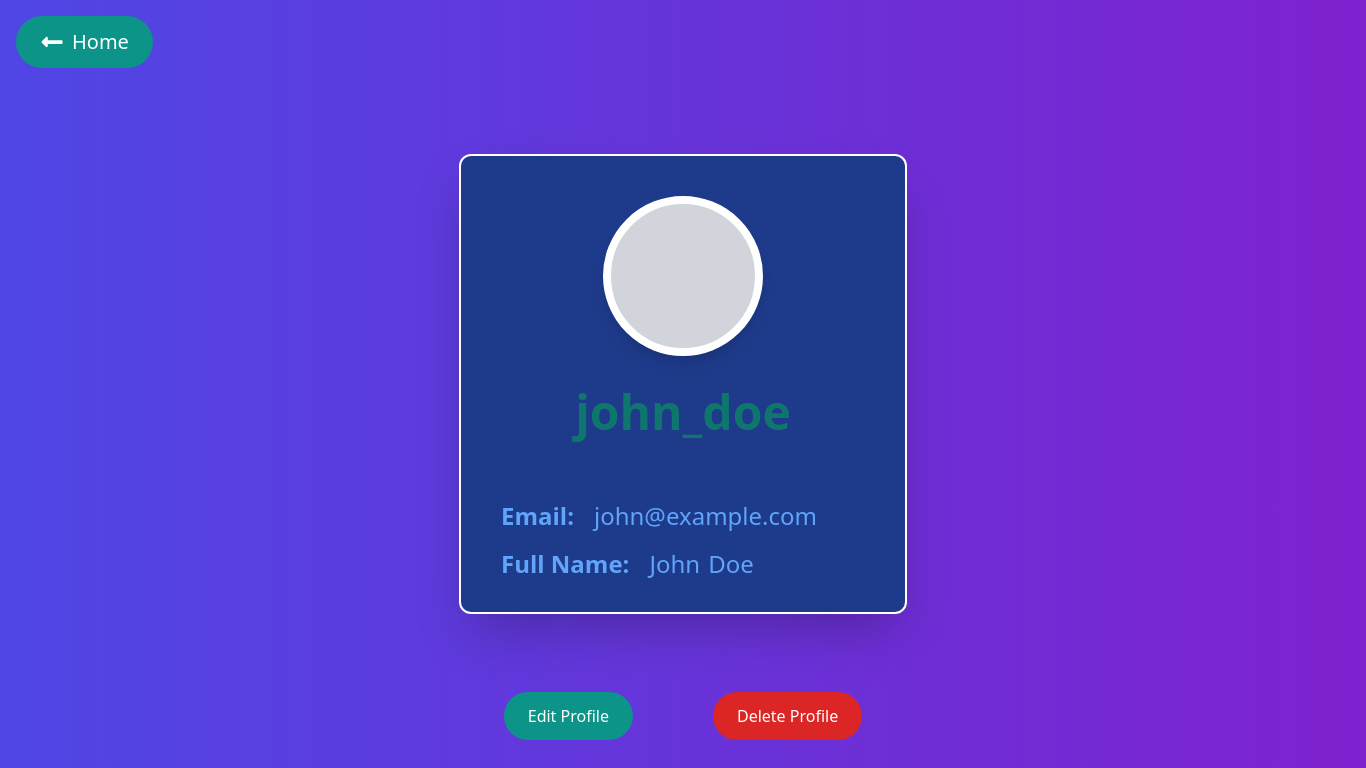
Test: Unit Tests: Profile.jsx › opens EditProfilePopup on Edit click
This screenshot has width=1366, height=768.
Click the button "Edit Profile" at point(568, 716), box [504,692,633,740]
(page scrolled)
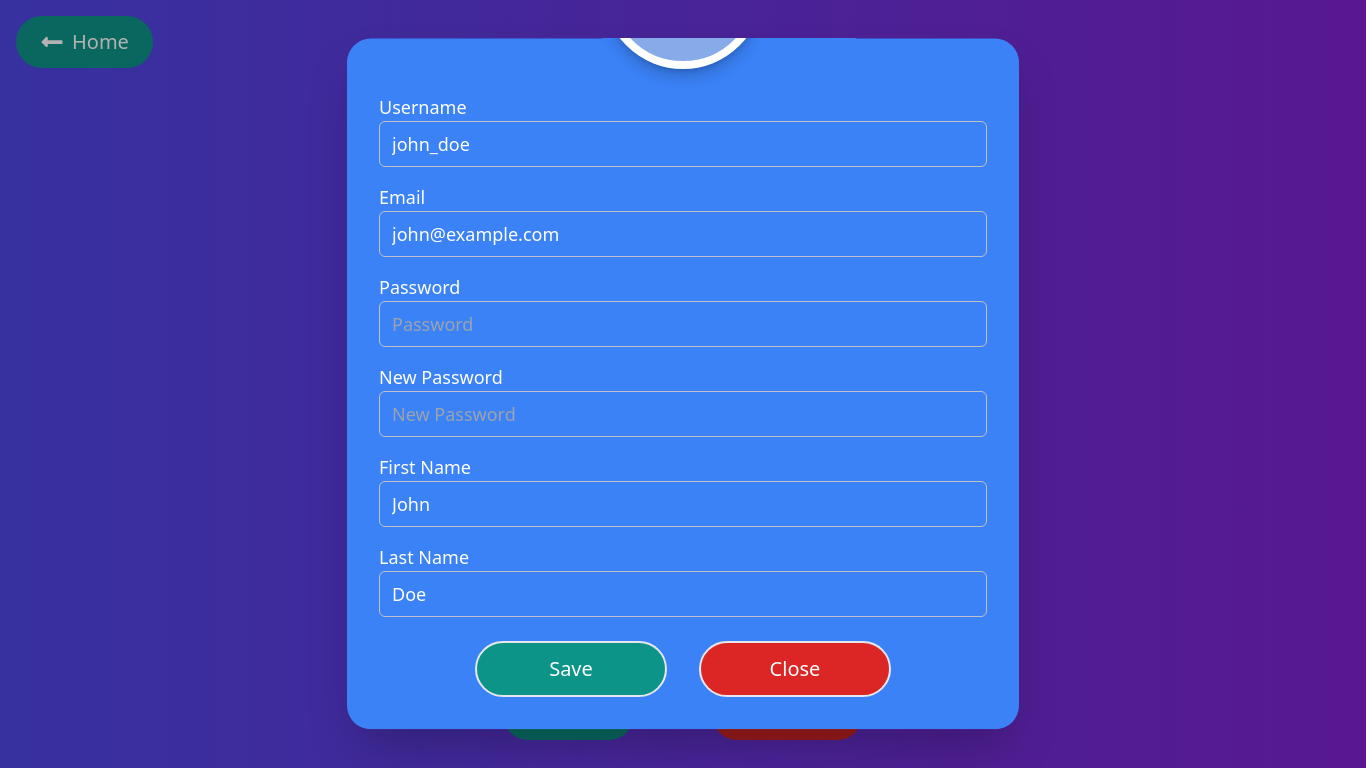
expect the button with test id "editProfile-save-button" is shown: met, box [475,641,667,697]
